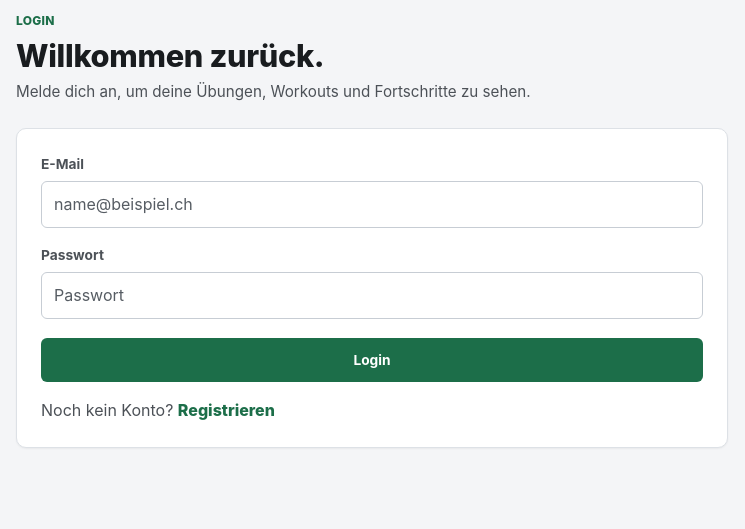
Test: LoginView › Stage 3D: a 429 response shows the rate-limit message, a Retry-After countdown, and disables the submit button
Type "someone@example.test" into the field with id "email" at (372, 204), box [41,181,703,228]
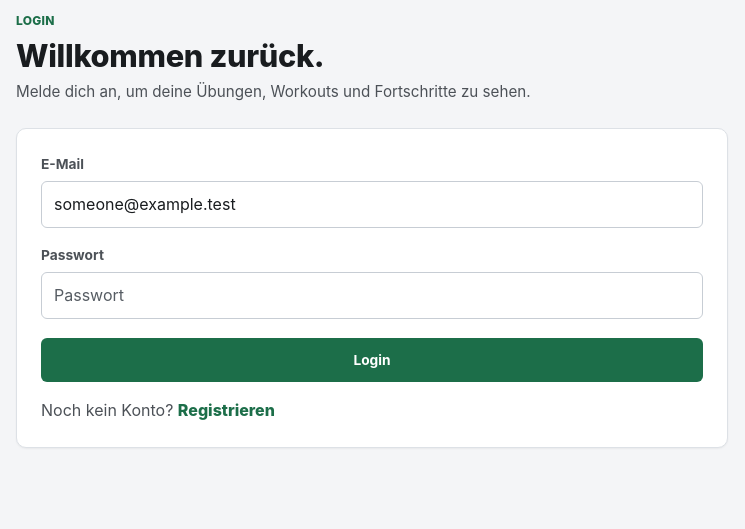
Type "irrelevant-password" into the password field with placeholder "Passwort" at (372, 296), box [41,272,703,319]
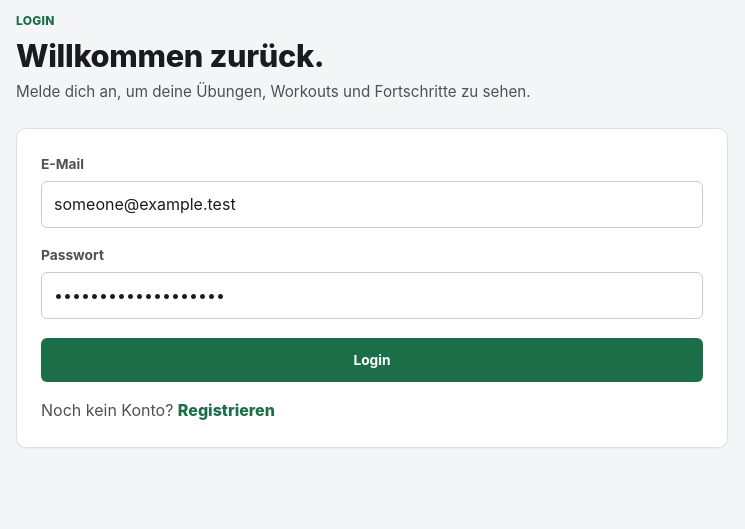
Submit the form, box [41,153,703,382]
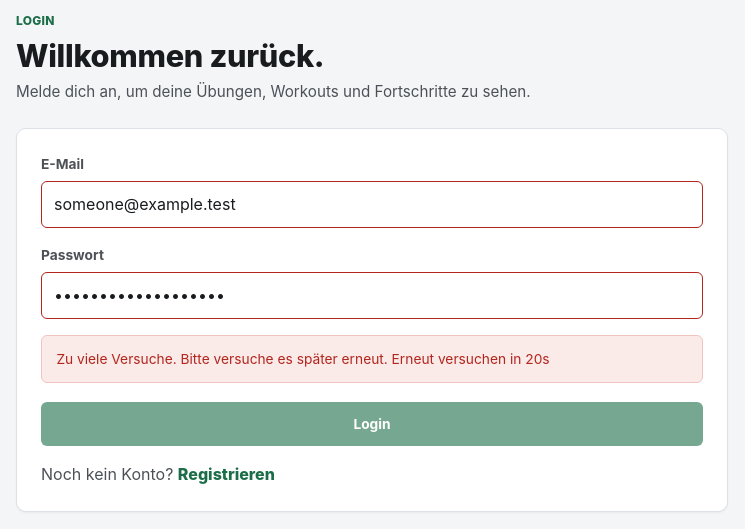
Expected: the message "Zu viele Versuche. Bitte versuche es später erneut. Erneut versuchen in 20s" is shown, [41,335,703,383]
Expected: the submit button is disabled, [41,402,703,446]
